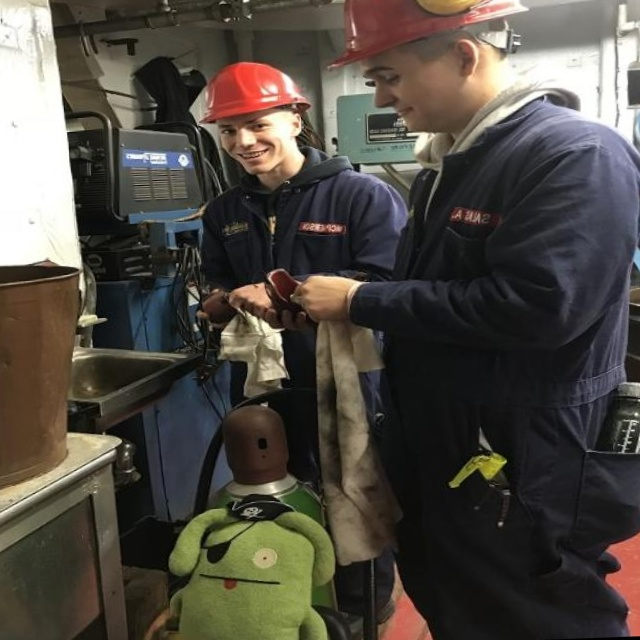Con_Casco: (365, 0, 523, 129), (203, 54, 313, 165)
